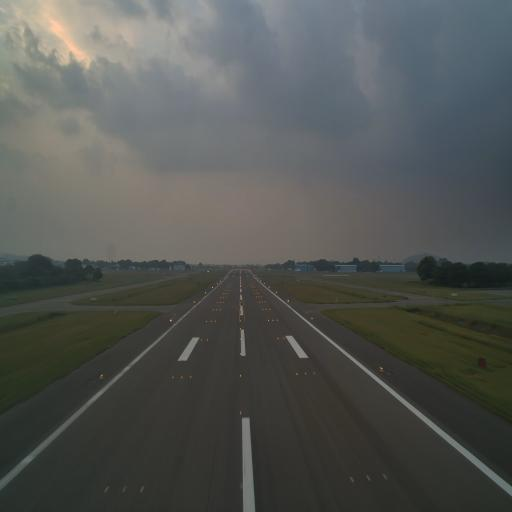off: (238, 478, 246, 494), (120, 485, 126, 494)
on: (348, 474, 356, 488), (138, 482, 146, 495), (381, 470, 389, 482), (363, 474, 373, 483), (103, 484, 111, 494), (189, 372, 193, 383), (312, 368, 316, 379), (99, 372, 104, 380), (379, 363, 383, 373), (304, 369, 308, 378), (239, 408, 243, 416), (171, 373, 175, 381), (295, 370, 299, 378), (239, 372, 243, 379), (180, 374, 184, 380)
